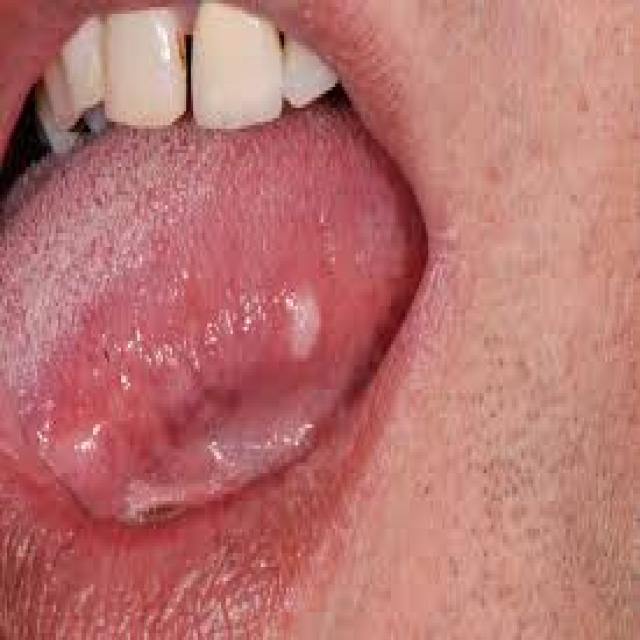discolored_patch: (0, 94, 428, 525)
